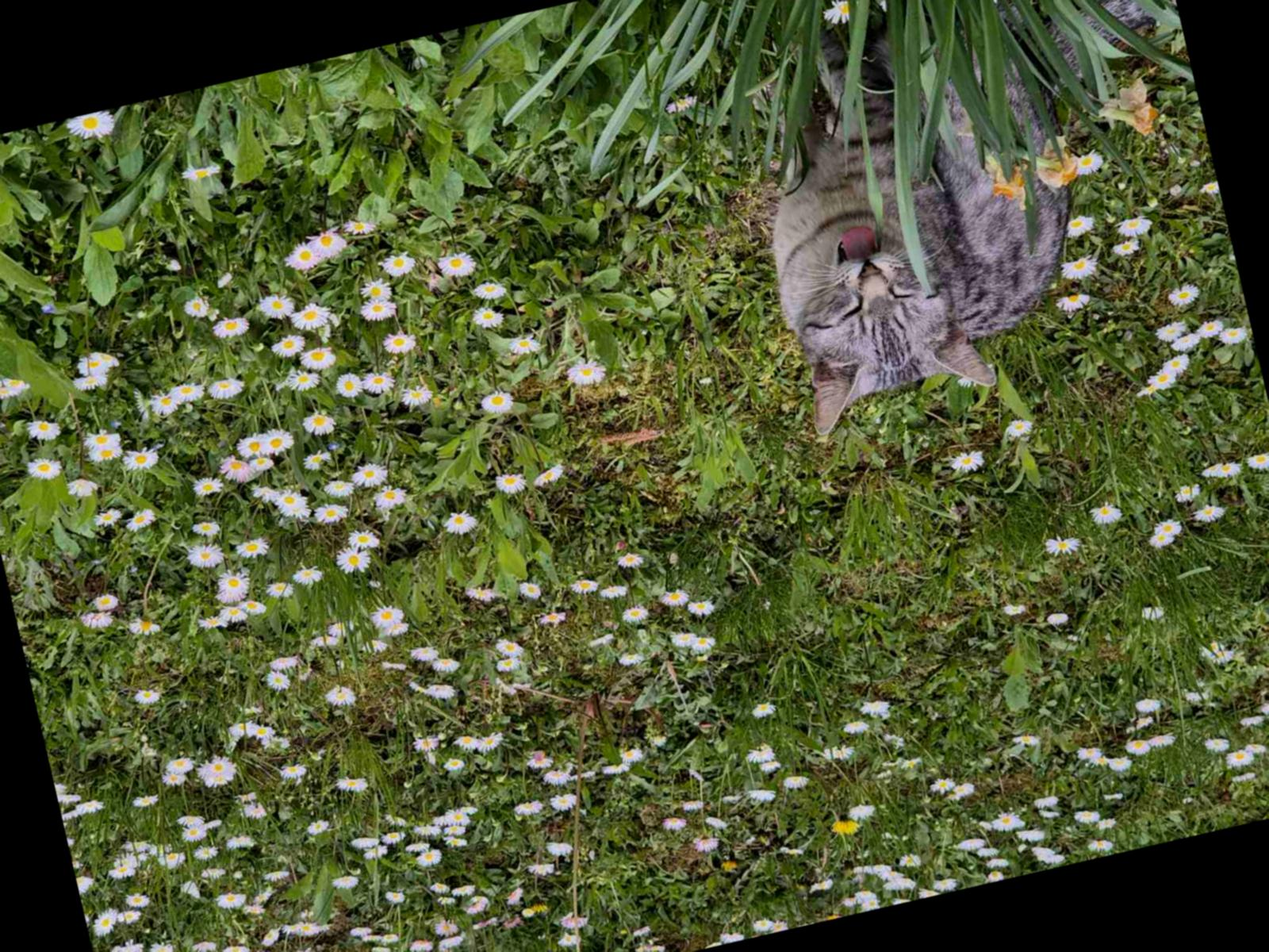macka: (711, 0, 1255, 443)
